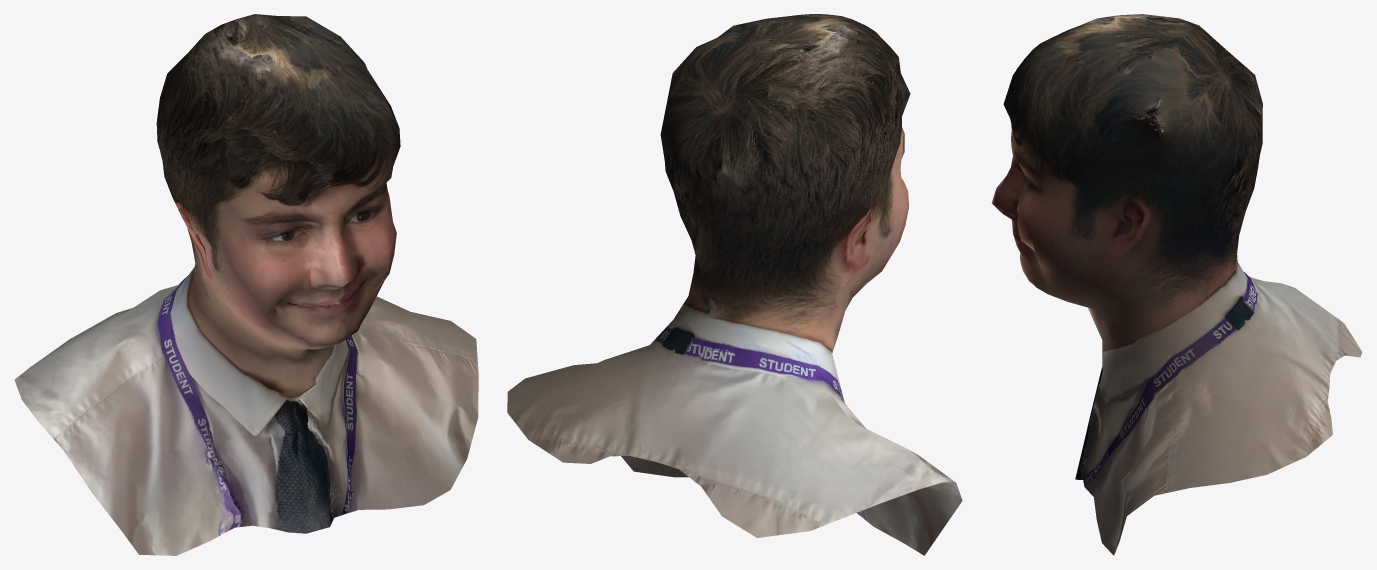
Rendered from big_boy_beety.gltf.
3 views of the same model, side by side, from view 1: azimuth 30°, elevation 25°; view 2: azimuth 150°, elevation 25°; view 3: azimuth 270°, elevation 25° (orthographic). The views are drawn at different scales.
Visible parts, largest first — view 1: RetopoFlow; view 2: RetopoFlow; view 3: RetopoFlow.
Part boxes in pixels (x1,y1,x2,y2): RetopoFlow: (14,14,478,555); RetopoFlow: (507,14,962,555); RetopoFlow: (991,14,1362,555).
Bounding box in the file's own units: 0.1966 × 0.2165 × 0.1596.
1 material, 1 textured.
